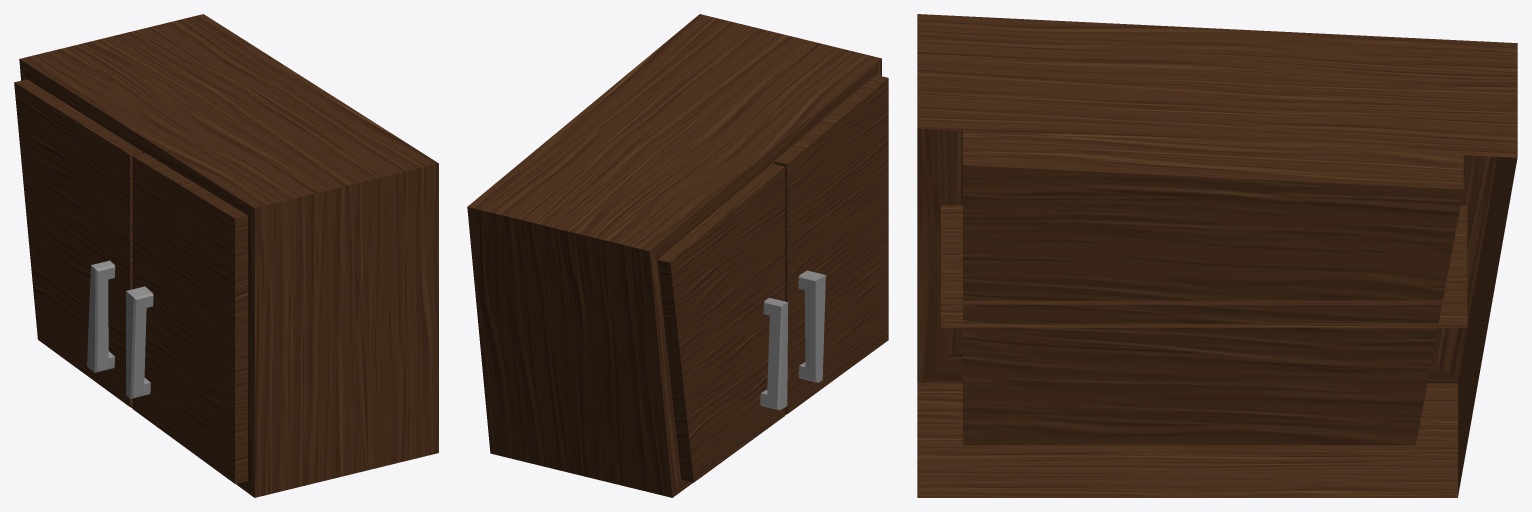
The model's file is Cabinet.fbx.
3 views of the same model, side by side, from view 1: azimuth 30°, elevation 25°; view 2: azimuth 150°, elevation 25°; view 3: azimuth 270°, elevation 25° (orthographic). The views are drawn at different scales.
Parts seen in each view (by area): view 1: Midnight_Antics_Kitchen_V1.004, Midnight_Antics_Kitchen_V1.006, Midnight_Antics_Kitchen_V1.005; view 2: Midnight_Antics_Kitchen_V1.004, Midnight_Antics_Kitchen_V1.005, Midnight_Antics_Kitchen_V1.006; view 3: Midnight_Antics_Kitchen_V1.004.
Boxes of the visible parts, x1=… form: Midnight_Antics_Kitchen_V1.004: x1=19, y1=14, x2=438, y2=497; Midnight_Antics_Kitchen_V1.006: x1=126, y1=153, x2=247, y2=483; Midnight_Antics_Kitchen_V1.005: x1=14, y1=79, x2=142, y2=406; Midnight_Antics_Kitchen_V1.004: x1=467, y1=14, x2=881, y2=497; Midnight_Antics_Kitchen_V1.005: x1=657, y1=163, x2=788, y2=482; Midnight_Antics_Kitchen_V1.006: x1=774, y1=75, x2=888, y2=414; Midnight_Antics_Kitchen_V1.004: x1=917, y1=14, x2=1517, y2=497.
Bounding box in the file's own units: 7658 × 9796 × 14426.
